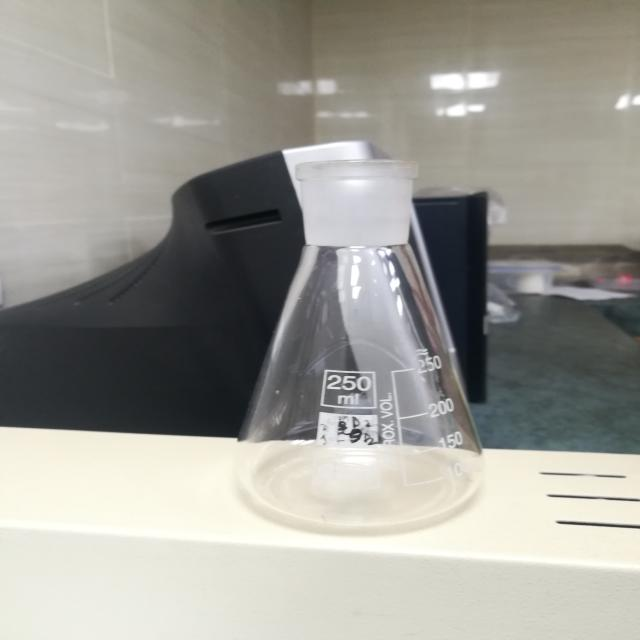Conical_Flask: (205, 128, 531, 538)
